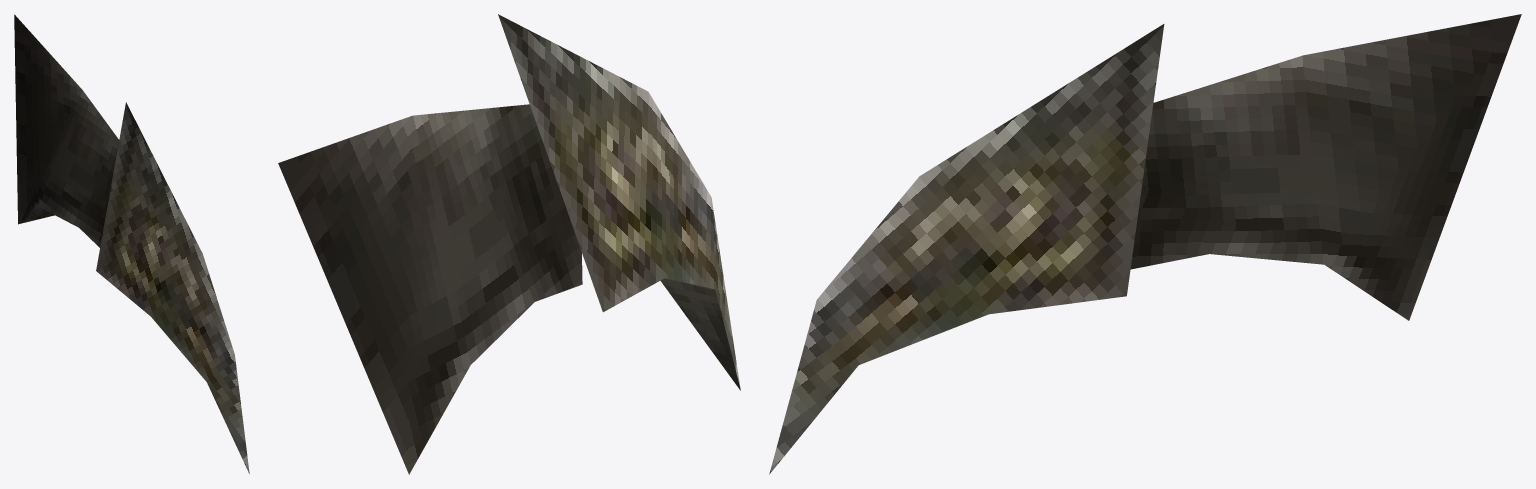
3 views of the same model, side by side, from view 1: azimuth 30°, elevation 25°; view 2: azimuth 150°, elevation 25°; view 3: azimuth 270°, elevation 25° (orthographic). The views are drawn at different scales.
Visible parts, largest first — view 1: model_object29; view 2: model_object29; view 3: model_object29.
Part boxes in pixels (box(x1,y1,x2,y2)): model_object29: box(14, 14, 249, 473); model_object29: box(278, 14, 740, 474); model_object29: box(769, 14, 1521, 474).
Size of the model in its own units: 0.3362 by 1.11 by 1.64.
1 material, 1 textured.
